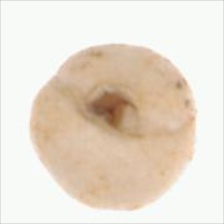L3: (81, 88, 140, 137)
L4: (31, 43, 197, 210)
